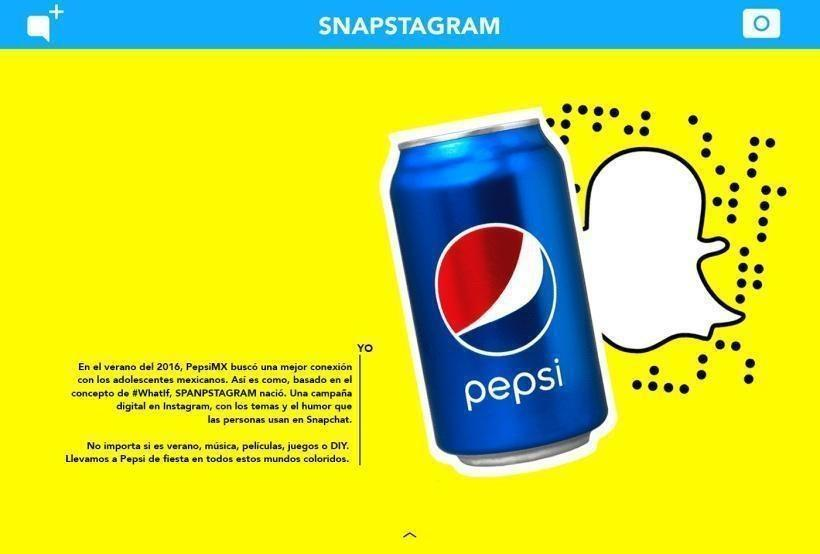tin can: (388, 116, 609, 468)
